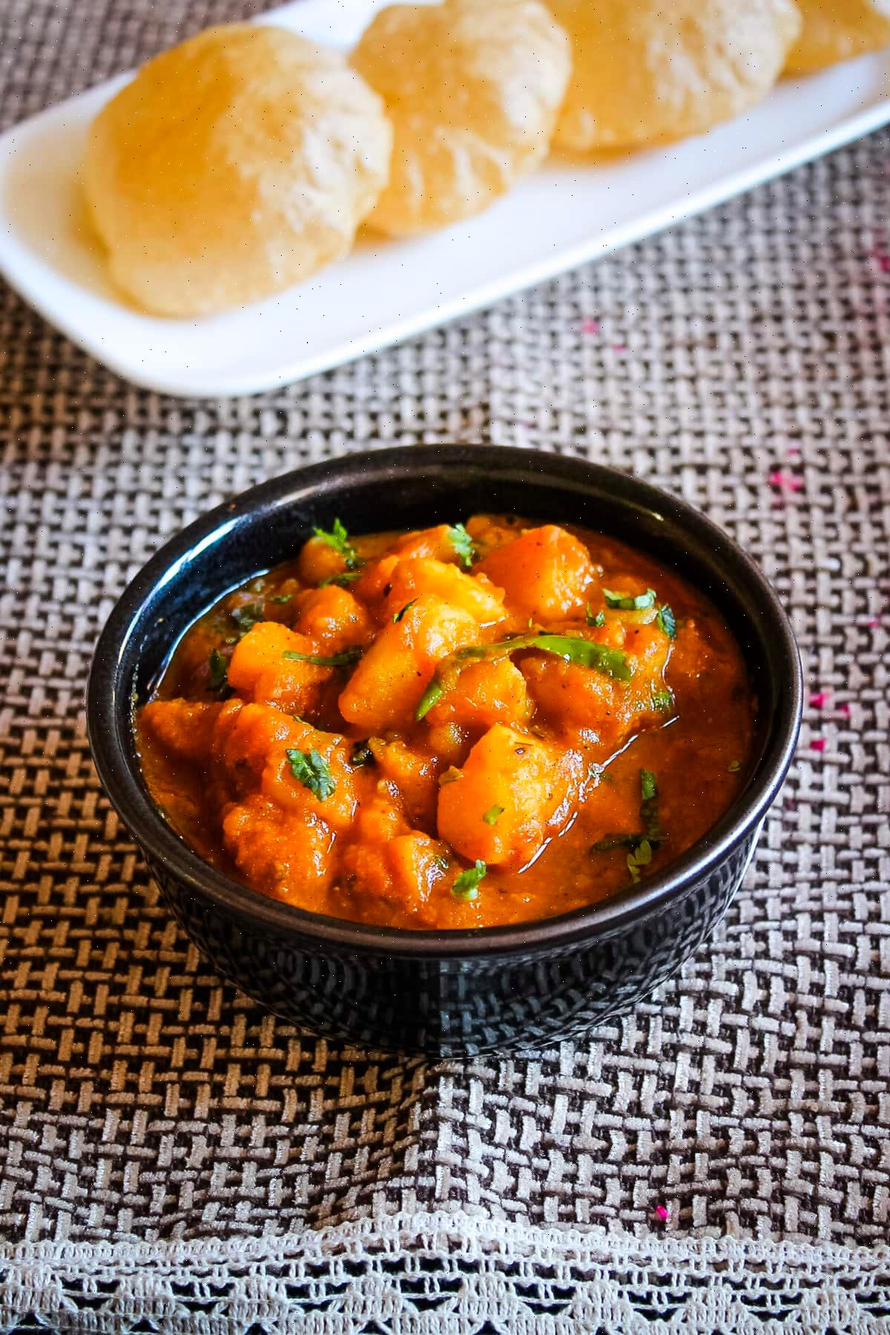puri: (85, 0, 890, 304)
